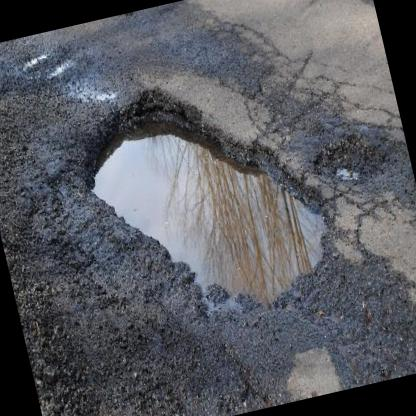pothole: (66, 50, 350, 344), (308, 120, 399, 192)
